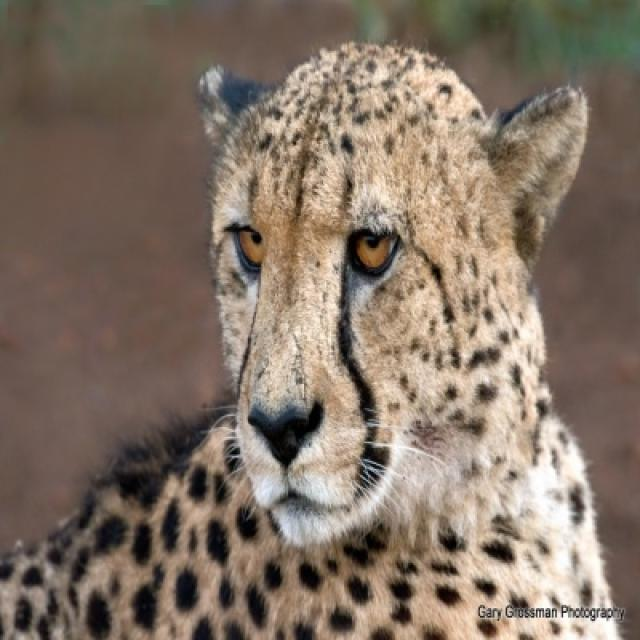Cheetah: (0, 43, 619, 638)
